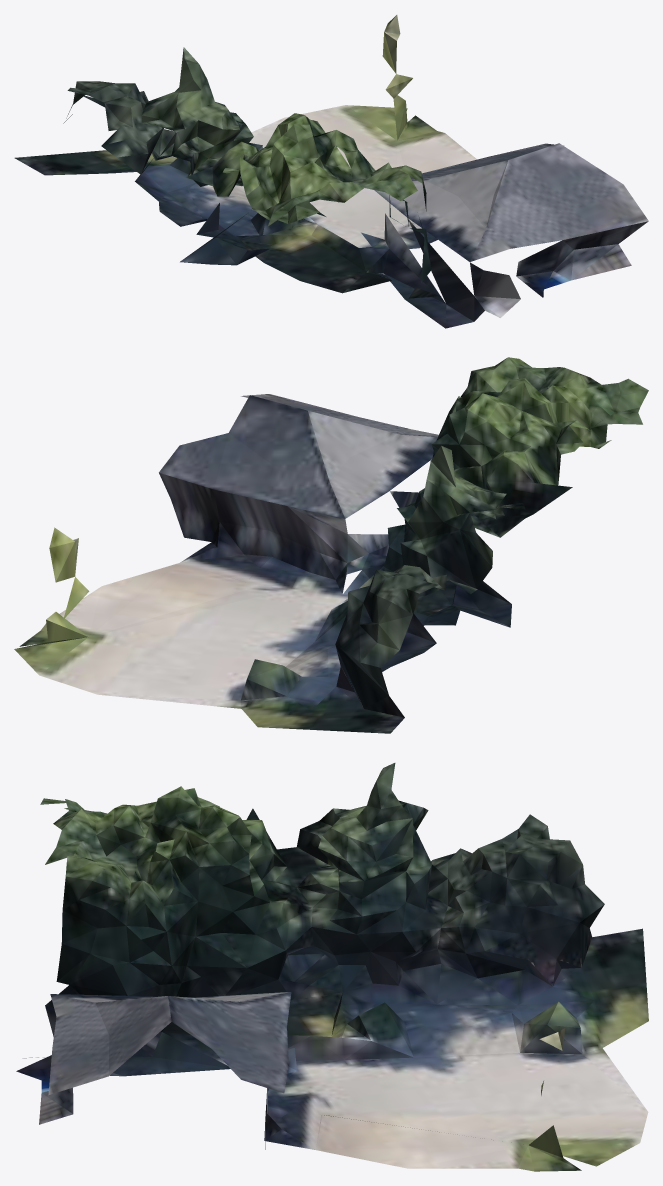
The model's file is Tile_+000_+007_L17_00.glb.
3 views of the same model, one above another, from view 1: azimuth 30°, elevation 25°; view 2: azimuth 150°, elevation 25°; view 3: azimuth 270°, elevation 25° (orthographic). The views are drawn at different scales.
Bounding box in the file's own units: 47.38 × 24.65 × 60.42.
1 material, 1 textured.
